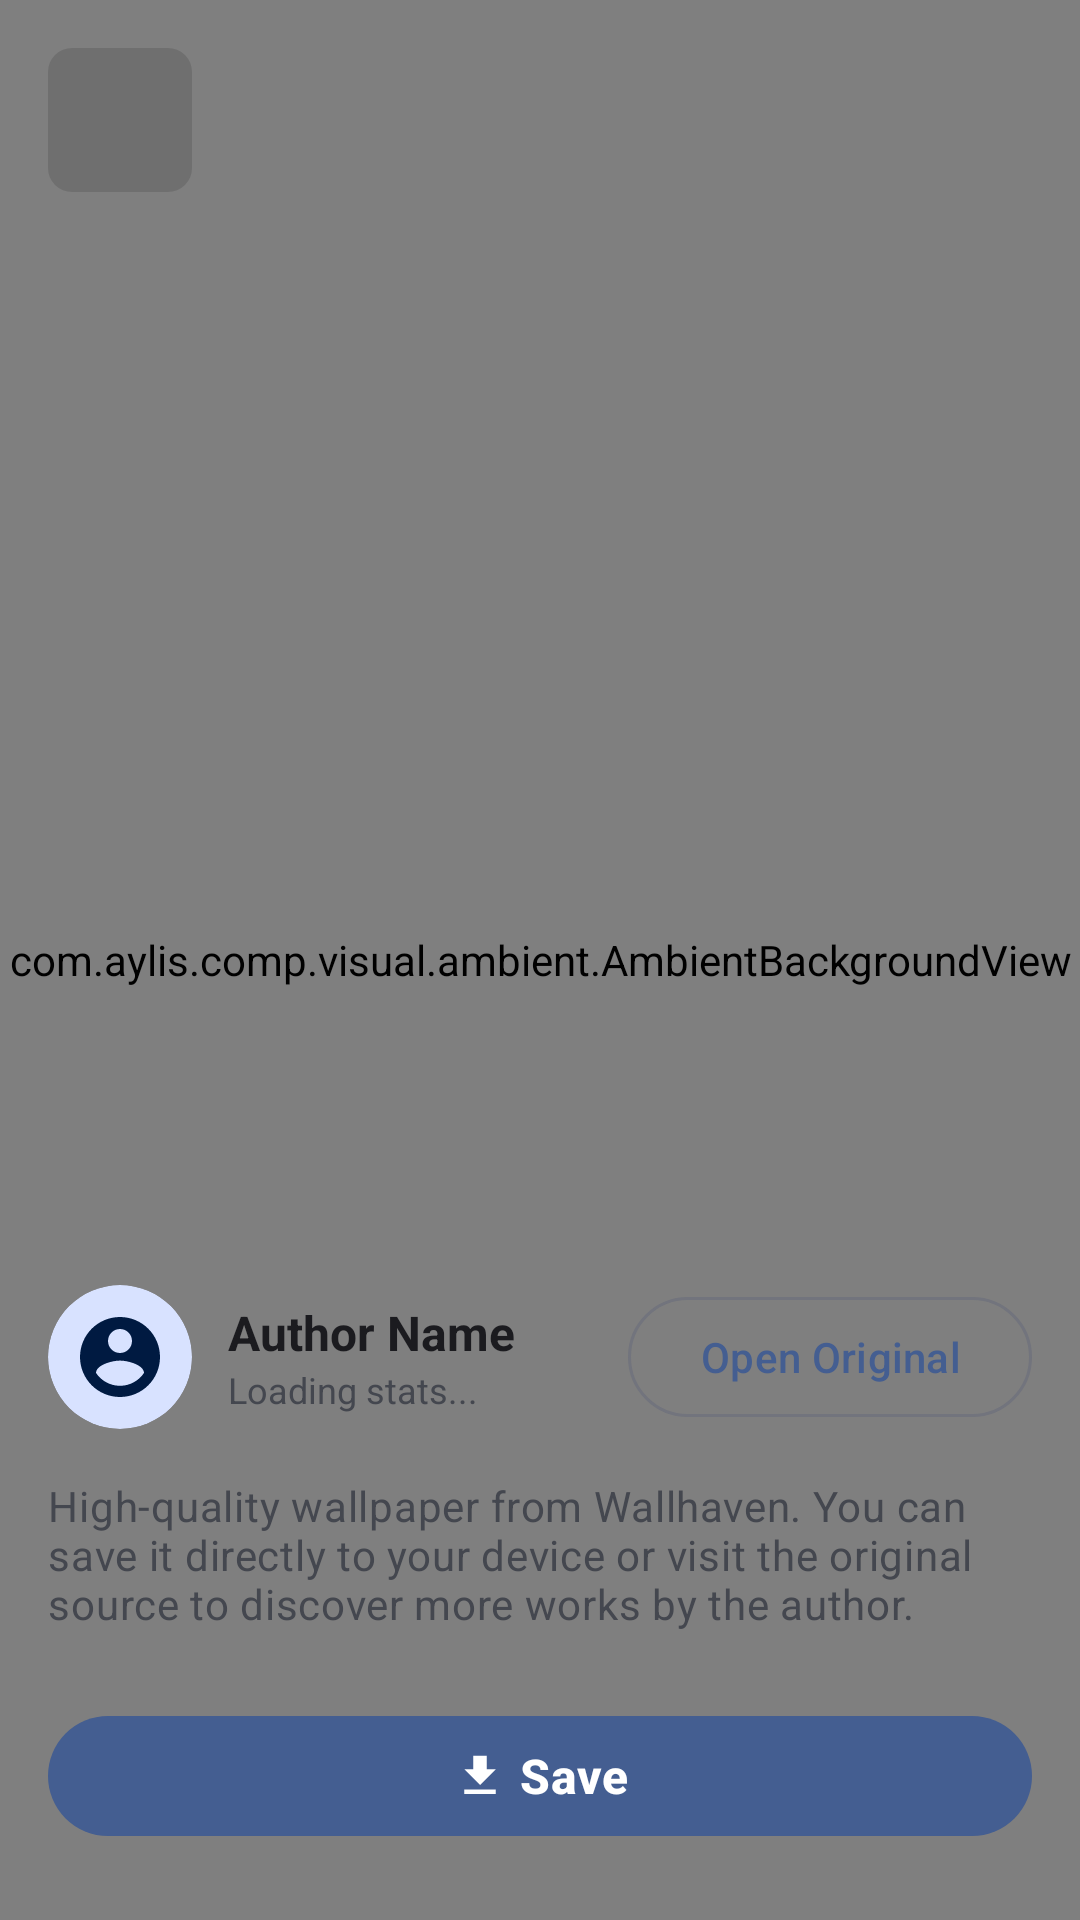

Icon bounding boxes for this 1080×1920 phone screenshot, format Rect(x1, y1, x2, y2):
account circle: Rect(48, 1285, 192, 1429)
